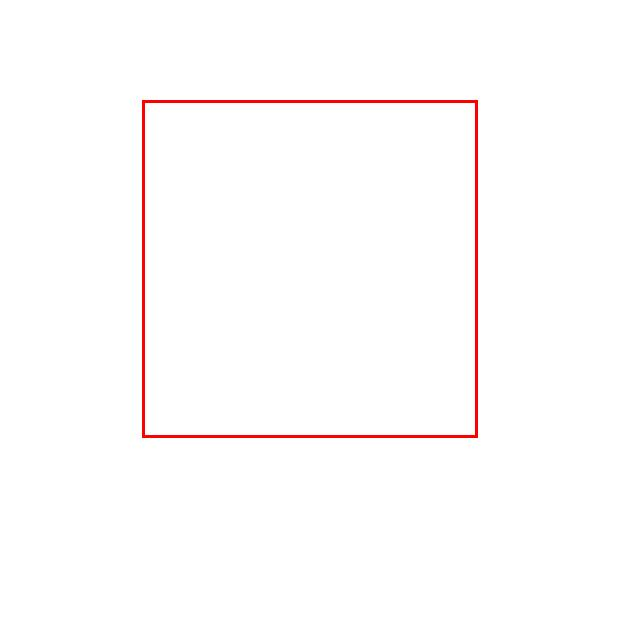Juice: (142, 100, 477, 437)
